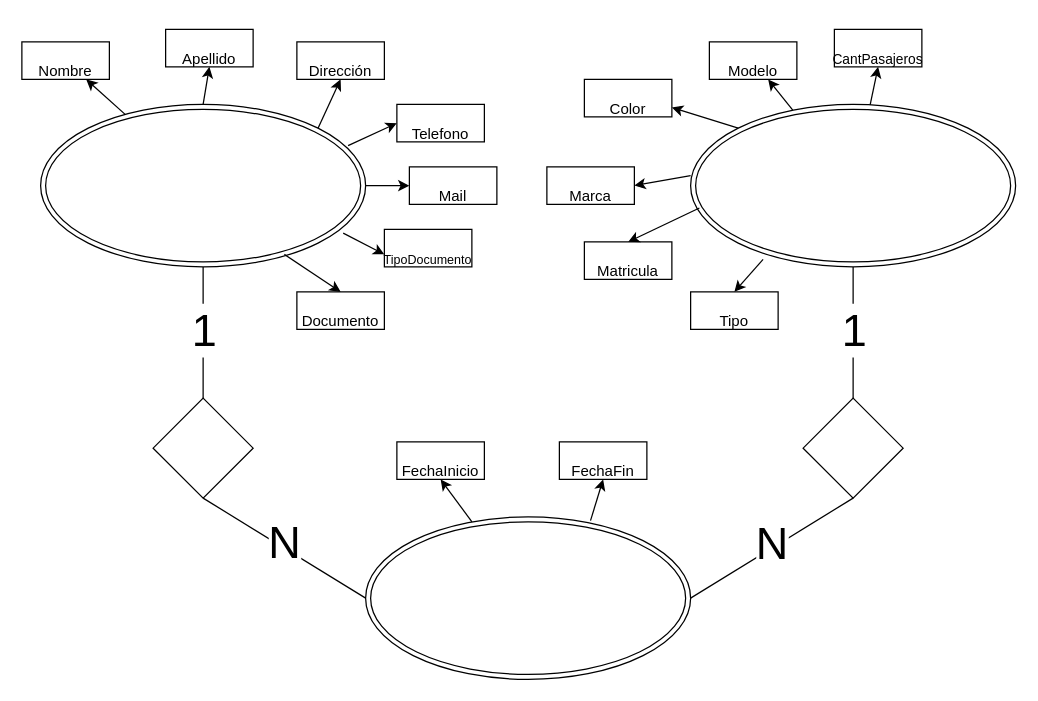
This 1038x701 diagram has some shape labels left out. Each missing label, with the centre of its shape:
Reserva: point 527,597
Usuario: point 202,185
Vehiculo: point 852,185
